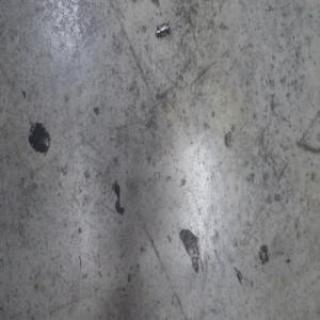Bolttrack_idkeyframe: (154, 19, 170, 38)
